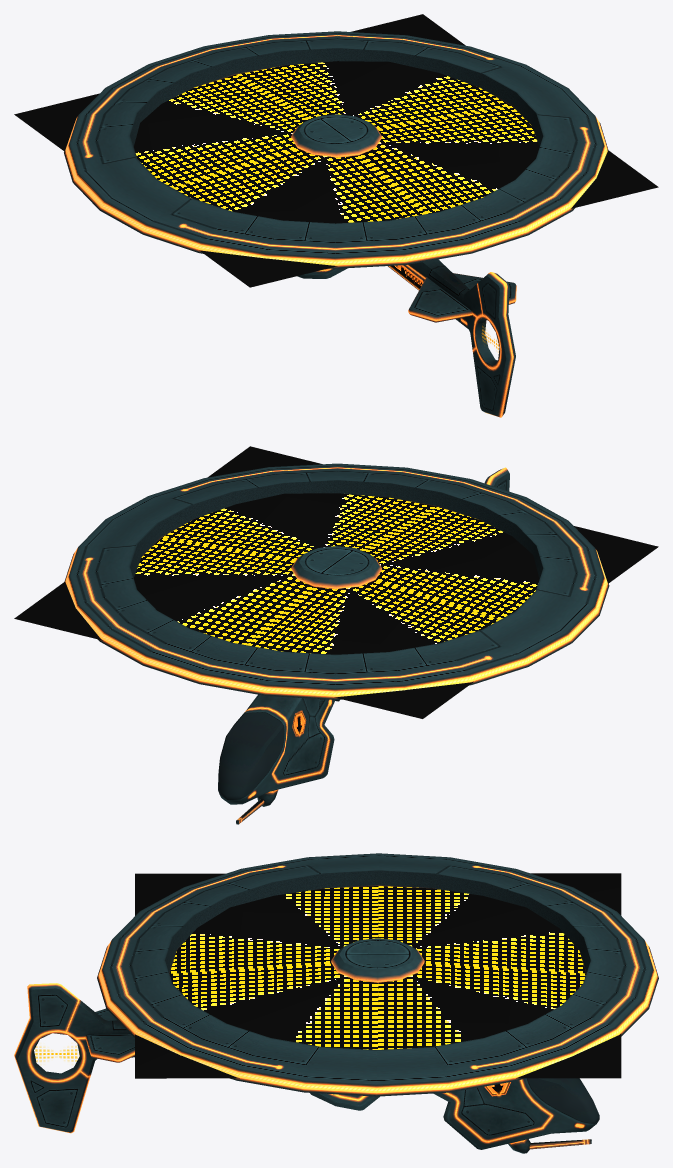
File: lightHelicopter01.glb
3 views of the same model, one above another, from view 1: azimuth 30°, elevation 25°; view 2: azimuth 150°, elevation 25°; view 3: azimuth 270°, elevation 25° (orthographic). The views are drawn at different scales.
Parts seen in each view (by area): view 1: heliTopRotor, heliTopRotorDisc, heliBody, heliTopRotorCenter, heilTailWingLeft; view 2: heliTopRotor, heliTopRotorDisc, heliBody, heliTopRotorCenter; view 3: heliTopRotor, heliTopRotorDisc, heliBody, heliTopRotorCenter, heliTailWingRight.
Part boxes in pixels (x1=…): heliTopRotor: x1=14, y1=14, x2=658, y2=287; heliTopRotorDisc: x1=64, y1=31, x2=608, y2=268; heliBody: x1=297, y1=259, x2=515, y2=417; heliTopRotorCenter: x1=291, y1=114, x2=381, y2=157; heilTailWingLeft: x1=408, y1=277, x2=472, y2=322; heliTopRotor: x1=14, y1=446, x2=658, y2=718; heliTopRotorDisc: x1=64, y1=463, x2=609, y2=699; heliBody: x1=218, y1=467, x2=509, y2=804; heliTopRotorCenter: x1=291, y1=546, x2=381, y2=589; heliTopRotor: x1=135, y1=873, x2=621, y2=1078; heliTopRotorDisc: x1=97, y1=853, x2=658, y2=1096; heliBody: x1=14, y1=983, x2=599, y2=1149; heliTopRotorCenter: x1=331, y1=938, x2=424, y2=982; heliTailWingRight: x1=85, y1=1034, x2=134, y2=1062.
Bounding box in the file's own units: 12.99 × 5.07 × 14.91.
Materials: 4 (4 with a texture image).
